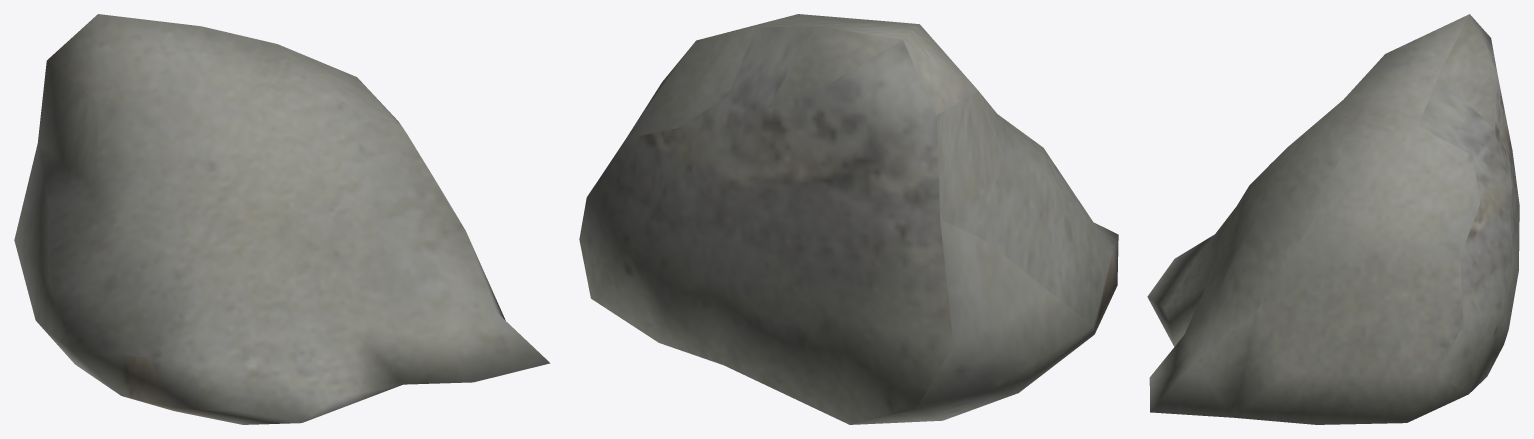
The model's file is charbon.fbx.
3 views of the same model, side by side, from view 1: azimuth 30°, elevation 25°; view 2: azimuth 150°, elevation 25°; view 3: azimuth 270°, elevation 25° (orthographic). The views are drawn at different scales.
Parts seen in each view (by area): view 1: Cube; view 2: Cube; view 3: Cube.
Part boxes in pixels (left/top/right/bottom): Cube: left=14, top=14, right=550, bottom=424; Cube: left=579, top=14, right=1118, bottom=424; Cube: left=1147, top=14, right=1519, bottom=424.
Bounding box in the file's own units: 9.96 × 8.33 × 8.89.
